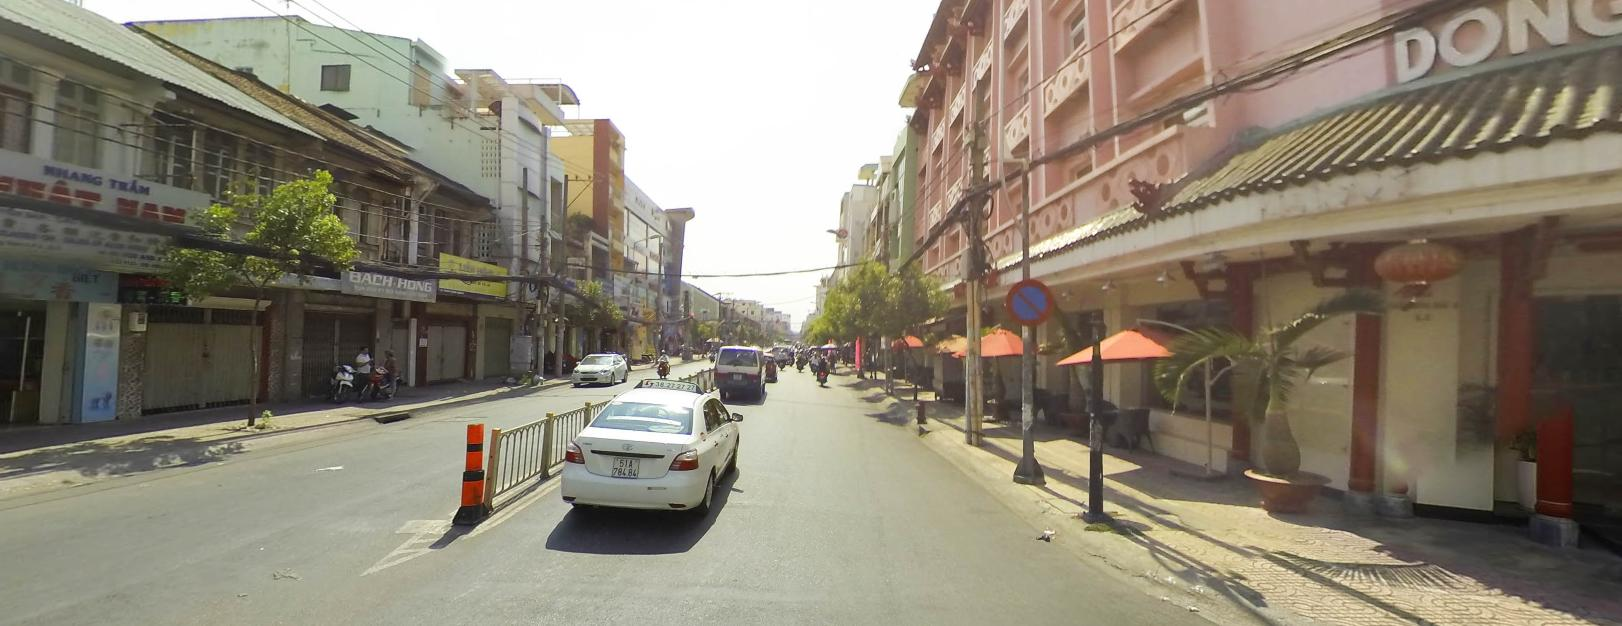Cam dung va do: (1008, 278, 1053, 323)
